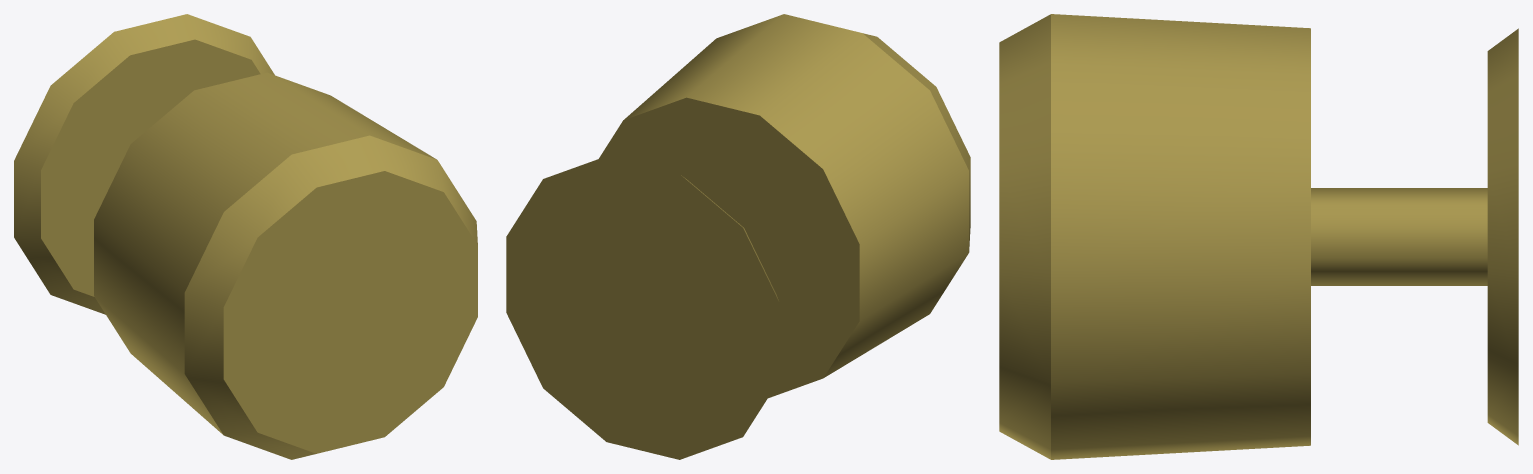
3 views of the same model, side by side, from view 1: azimuth 30°, elevation 25°; view 2: azimuth 150°, elevation 25°; view 3: azimuth 270°, elevation 25° (orthographic). The views are drawn at different scales.
Parts seen in each view (by area): view 1: new-2, new-3; view 2: new-2, new-3; view 3: new-2, new-3.
Boxes of the visible parts, x1,y1,x2,y2 form: new-2: (94,72,477,459); new-3: (14,14,274,314); new-2: (599,14,970,398); new-3: (506,156,779,459); new-2: (999,14,1487,459); new-3: (1487,28,1518,445).
Size of the model in its own units: 0.0463 by 0.0549 by 0.0463.
